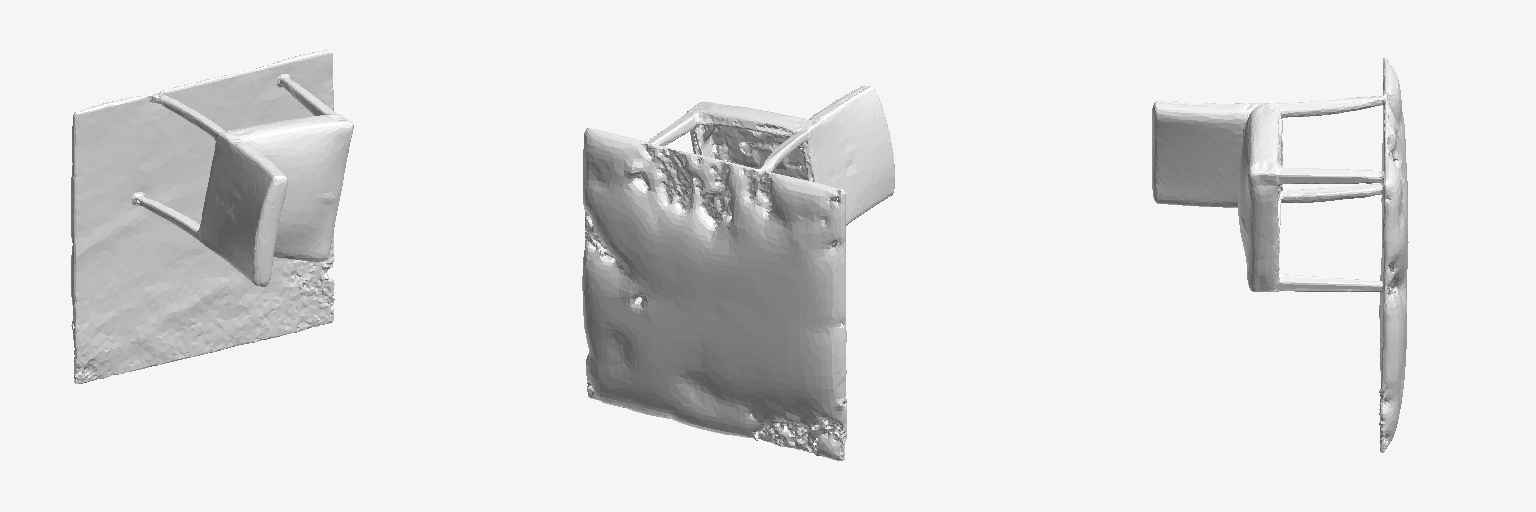
Rendered from chair_texture_uv.obj.
3 views of the same model, side by side, from view 1: azimuth 30°, elevation 25°; view 2: azimuth 150°, elevation 25°; view 3: azimuth 270°, elevation 25° (orthographic).
Size of the model in its own units: 1.02 by 1.02 by 0.8644.